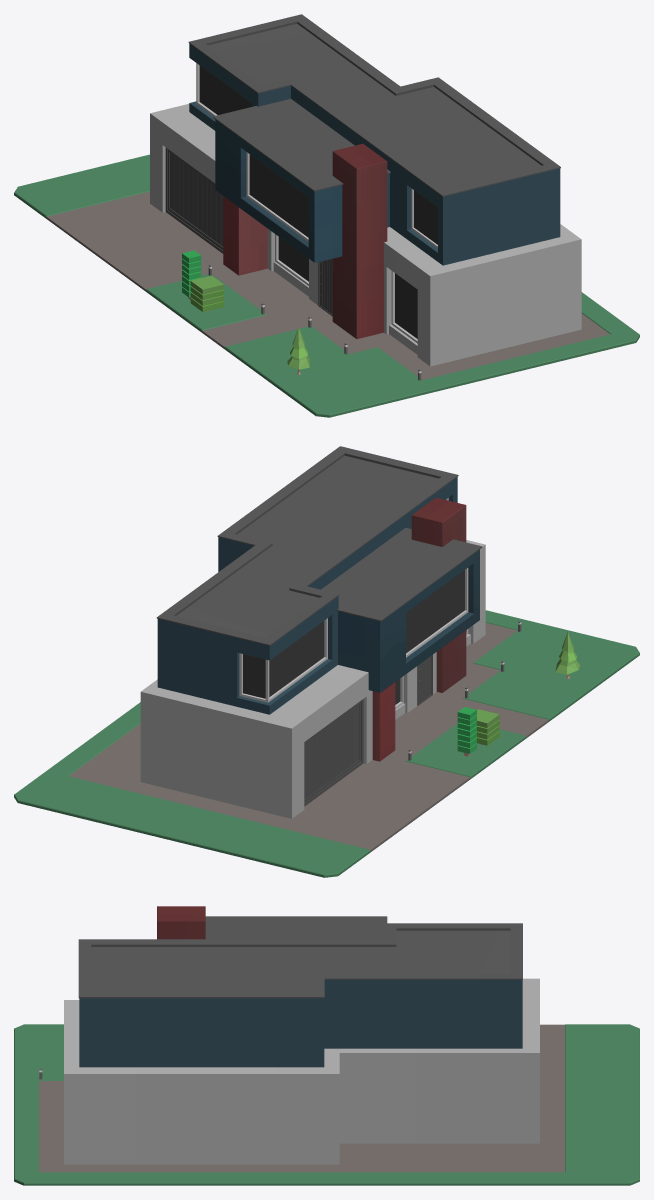
File: bldg-house-a.glb
The picture shows the model from 3 angles, top to bottom: view 1: azimuth 30°, elevation 25°; view 2: azimuth 150°, elevation 25°; view 3: azimuth 270°, elevation 25°; orthographic projection.
Visible parts, largest first — view 1: house_01.001; view 2: house_01.001; view 3: house_01.001.
Boxes of the visible parts, x1=… form: house_01.001: x1=14, y1=14, x2=639, y2=417; house_01.001: x1=14, y1=446, x2=639, y2=877; house_01.001: x1=14, y1=906, x2=639, y2=1185.
Bounding box in the file's own units: 15 × 7.64 × 25.
1 material, 1 textured.
